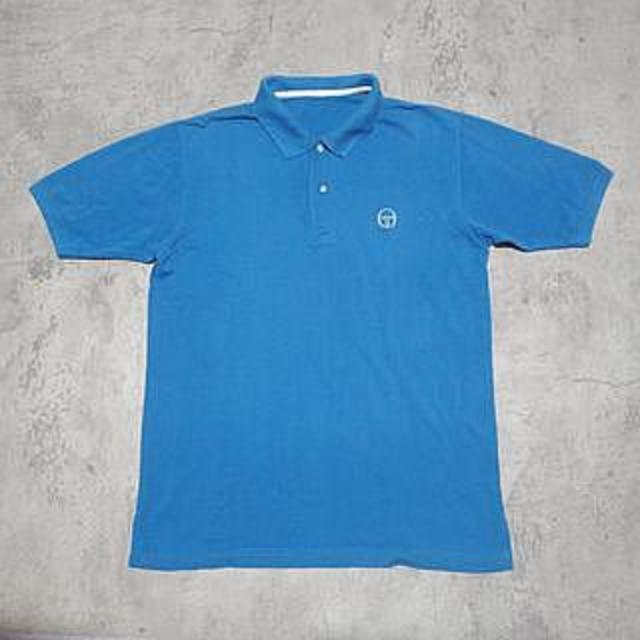T_SHIRT: (21, 66, 623, 579)
